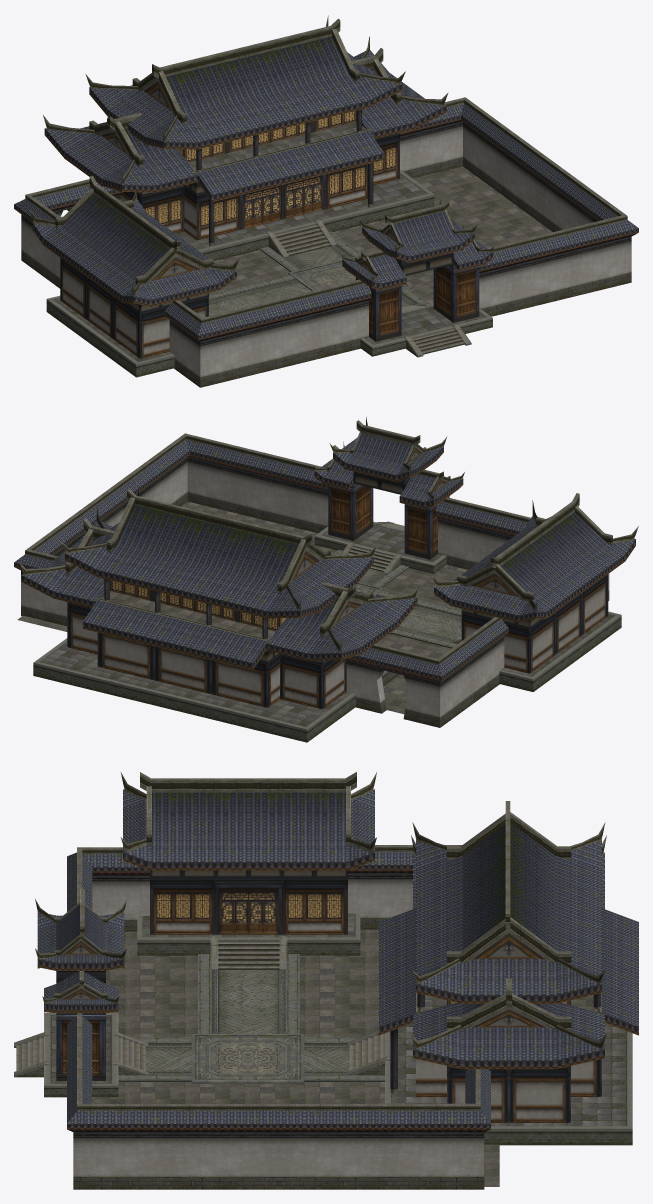
The model's file is Maincity10_Building.FBX.
3 views of the same model, one above another, from view 1: azimuth 30°, elevation 25°; view 2: azimuth 150°, elevation 25°; view 3: azimuth 270°, elevation 25° (orthographic). The views are drawn at different scales.
Visible parts, largest first — view 1: Maincity10_Building; view 2: Maincity10_Building; view 3: Maincity10_Building.
Boxes of the visible parts, x1=… form: Maincity10_Building: x1=14, y1=15, x2=638, y2=387; Maincity10_Building: x1=14, y1=417, x2=638, y2=742; Maincity10_Building: x1=14, y1=772, x2=638, y2=1189.
Bounding box in the file's own units: 3431 × 1110 × 3079.
